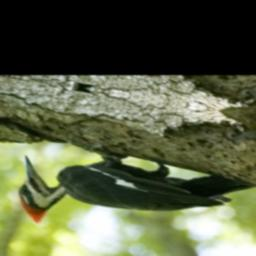Woodpecker: (5, 138, 256, 256)
